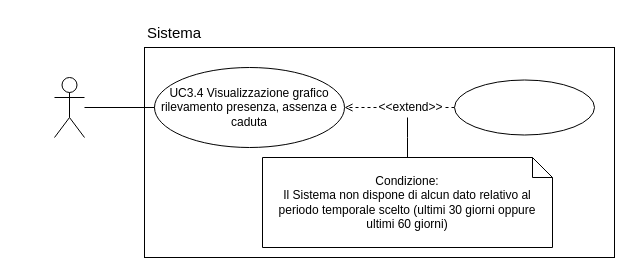
This 632x275 diagram has some shape labels left out. Each missing label, with the centre of its shape:
Operatore Sanitario: the point at 69,107
UC7 Errore dati insufficienti: the point at 524,107
